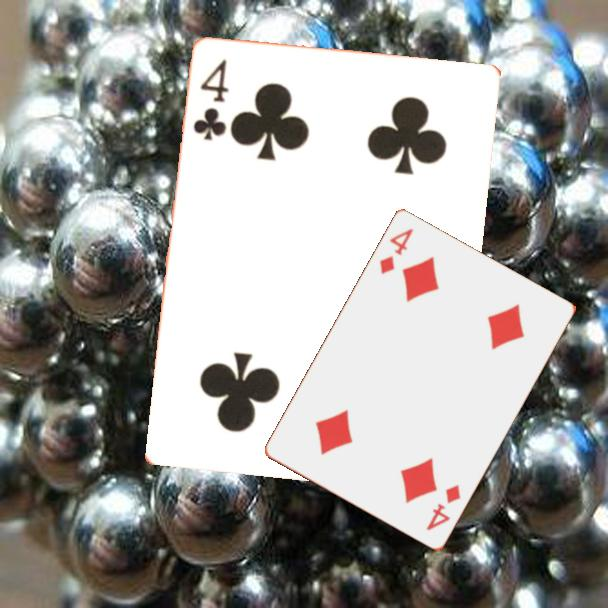c04: (190, 56, 231, 144)
d04: (423, 481, 464, 534), (376, 225, 416, 278)
